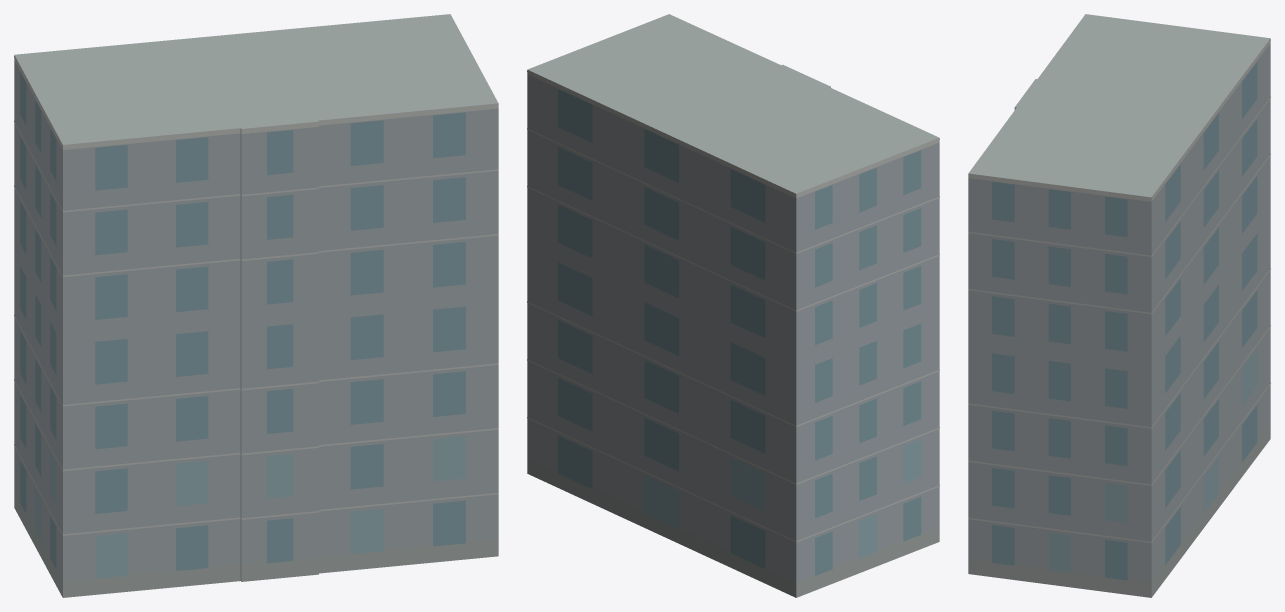
File: survey-upis-32986707.glb
3 views of the same model, side by side, from view 1: azimuth 30°, elevation 25°; view 2: azimuth 150°, elevation 25°; view 3: azimuth 270°, elevation 25° (orthographic). The views are drawn at different scales.
Visible parts, largest first — view 1: survey-upis-32986707.tmp; view 2: survey-upis-32986707.tmp; view 3: survey-upis-32986707.tmp.
Part boxes in pixels (x1=…): survey-upis-32986707.tmp: x1=14, y1=14, x2=498, y2=597; survey-upis-32986707.tmp: x1=527, y1=14, x2=939, y2=597; survey-upis-32986707.tmp: x1=968, y1=14, x2=1270, y2=597.
Bounding box in the file's own units: 20.99 × 21.35 × 14.63.
